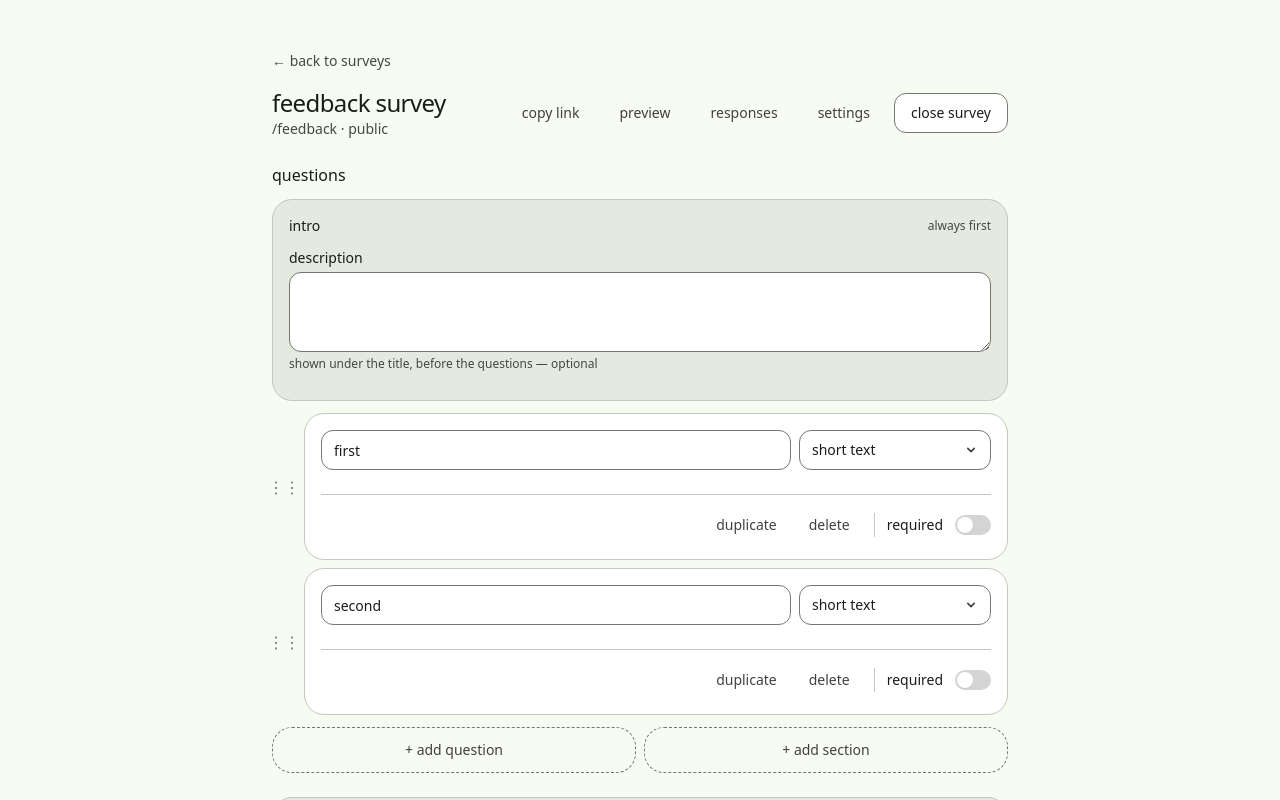
Test: SurveyBuilderScreen › confirms before turning a question on an answered survey into a section
The width and height of the screenshot is (1280, 800).
Expected: the 1st field showing "first" is shown, [321,430,791,470]
Select "section header" in the 1st dropdown named "question type" at (895, 450), box [799,430,991,470]
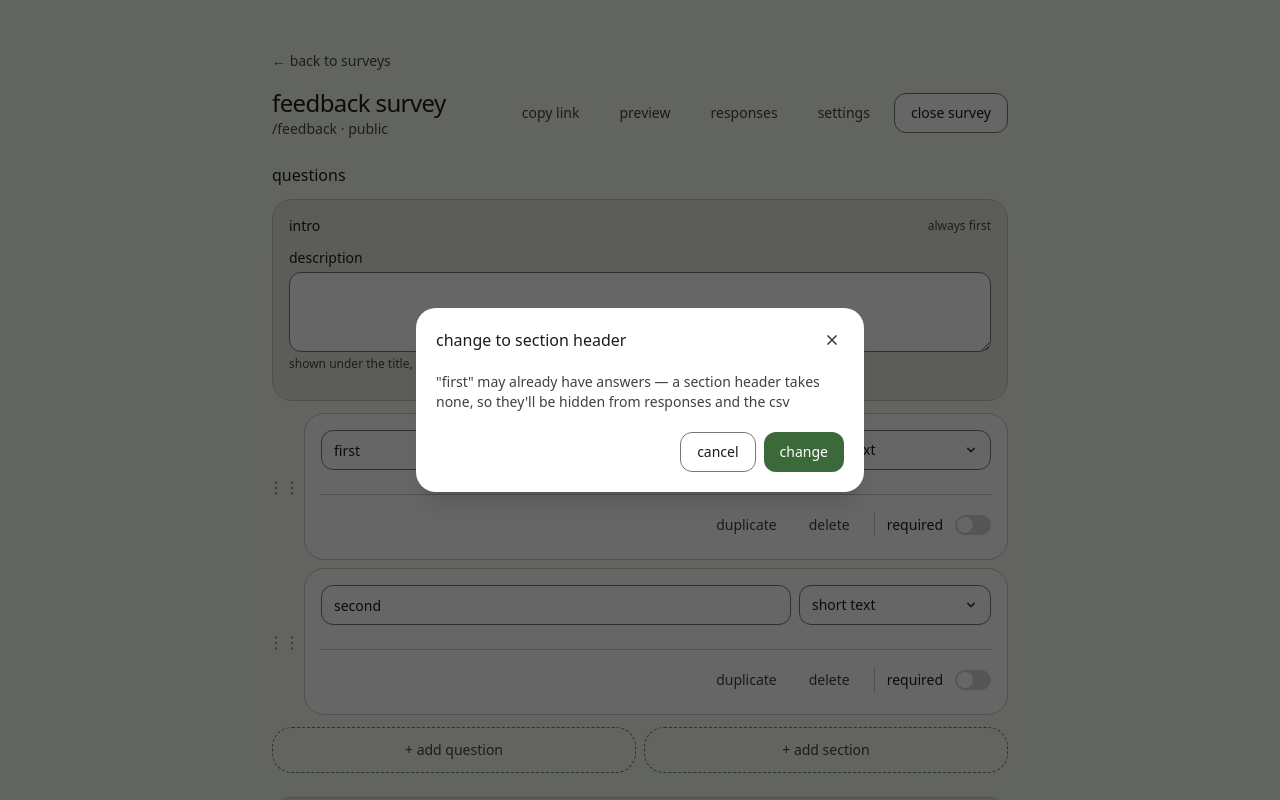
Click the button "cancel".
click(718, 452)  # box [680,432,756,472]
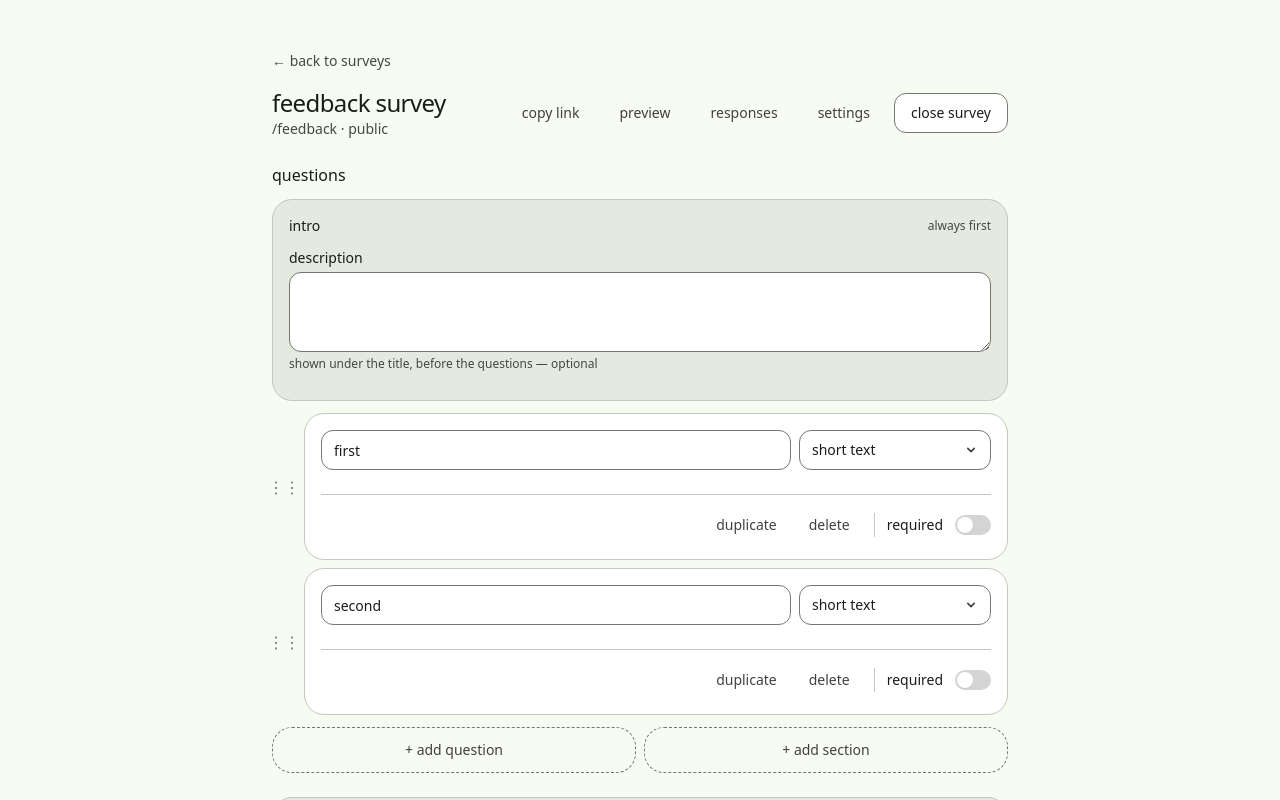
Now the dialog is gone
